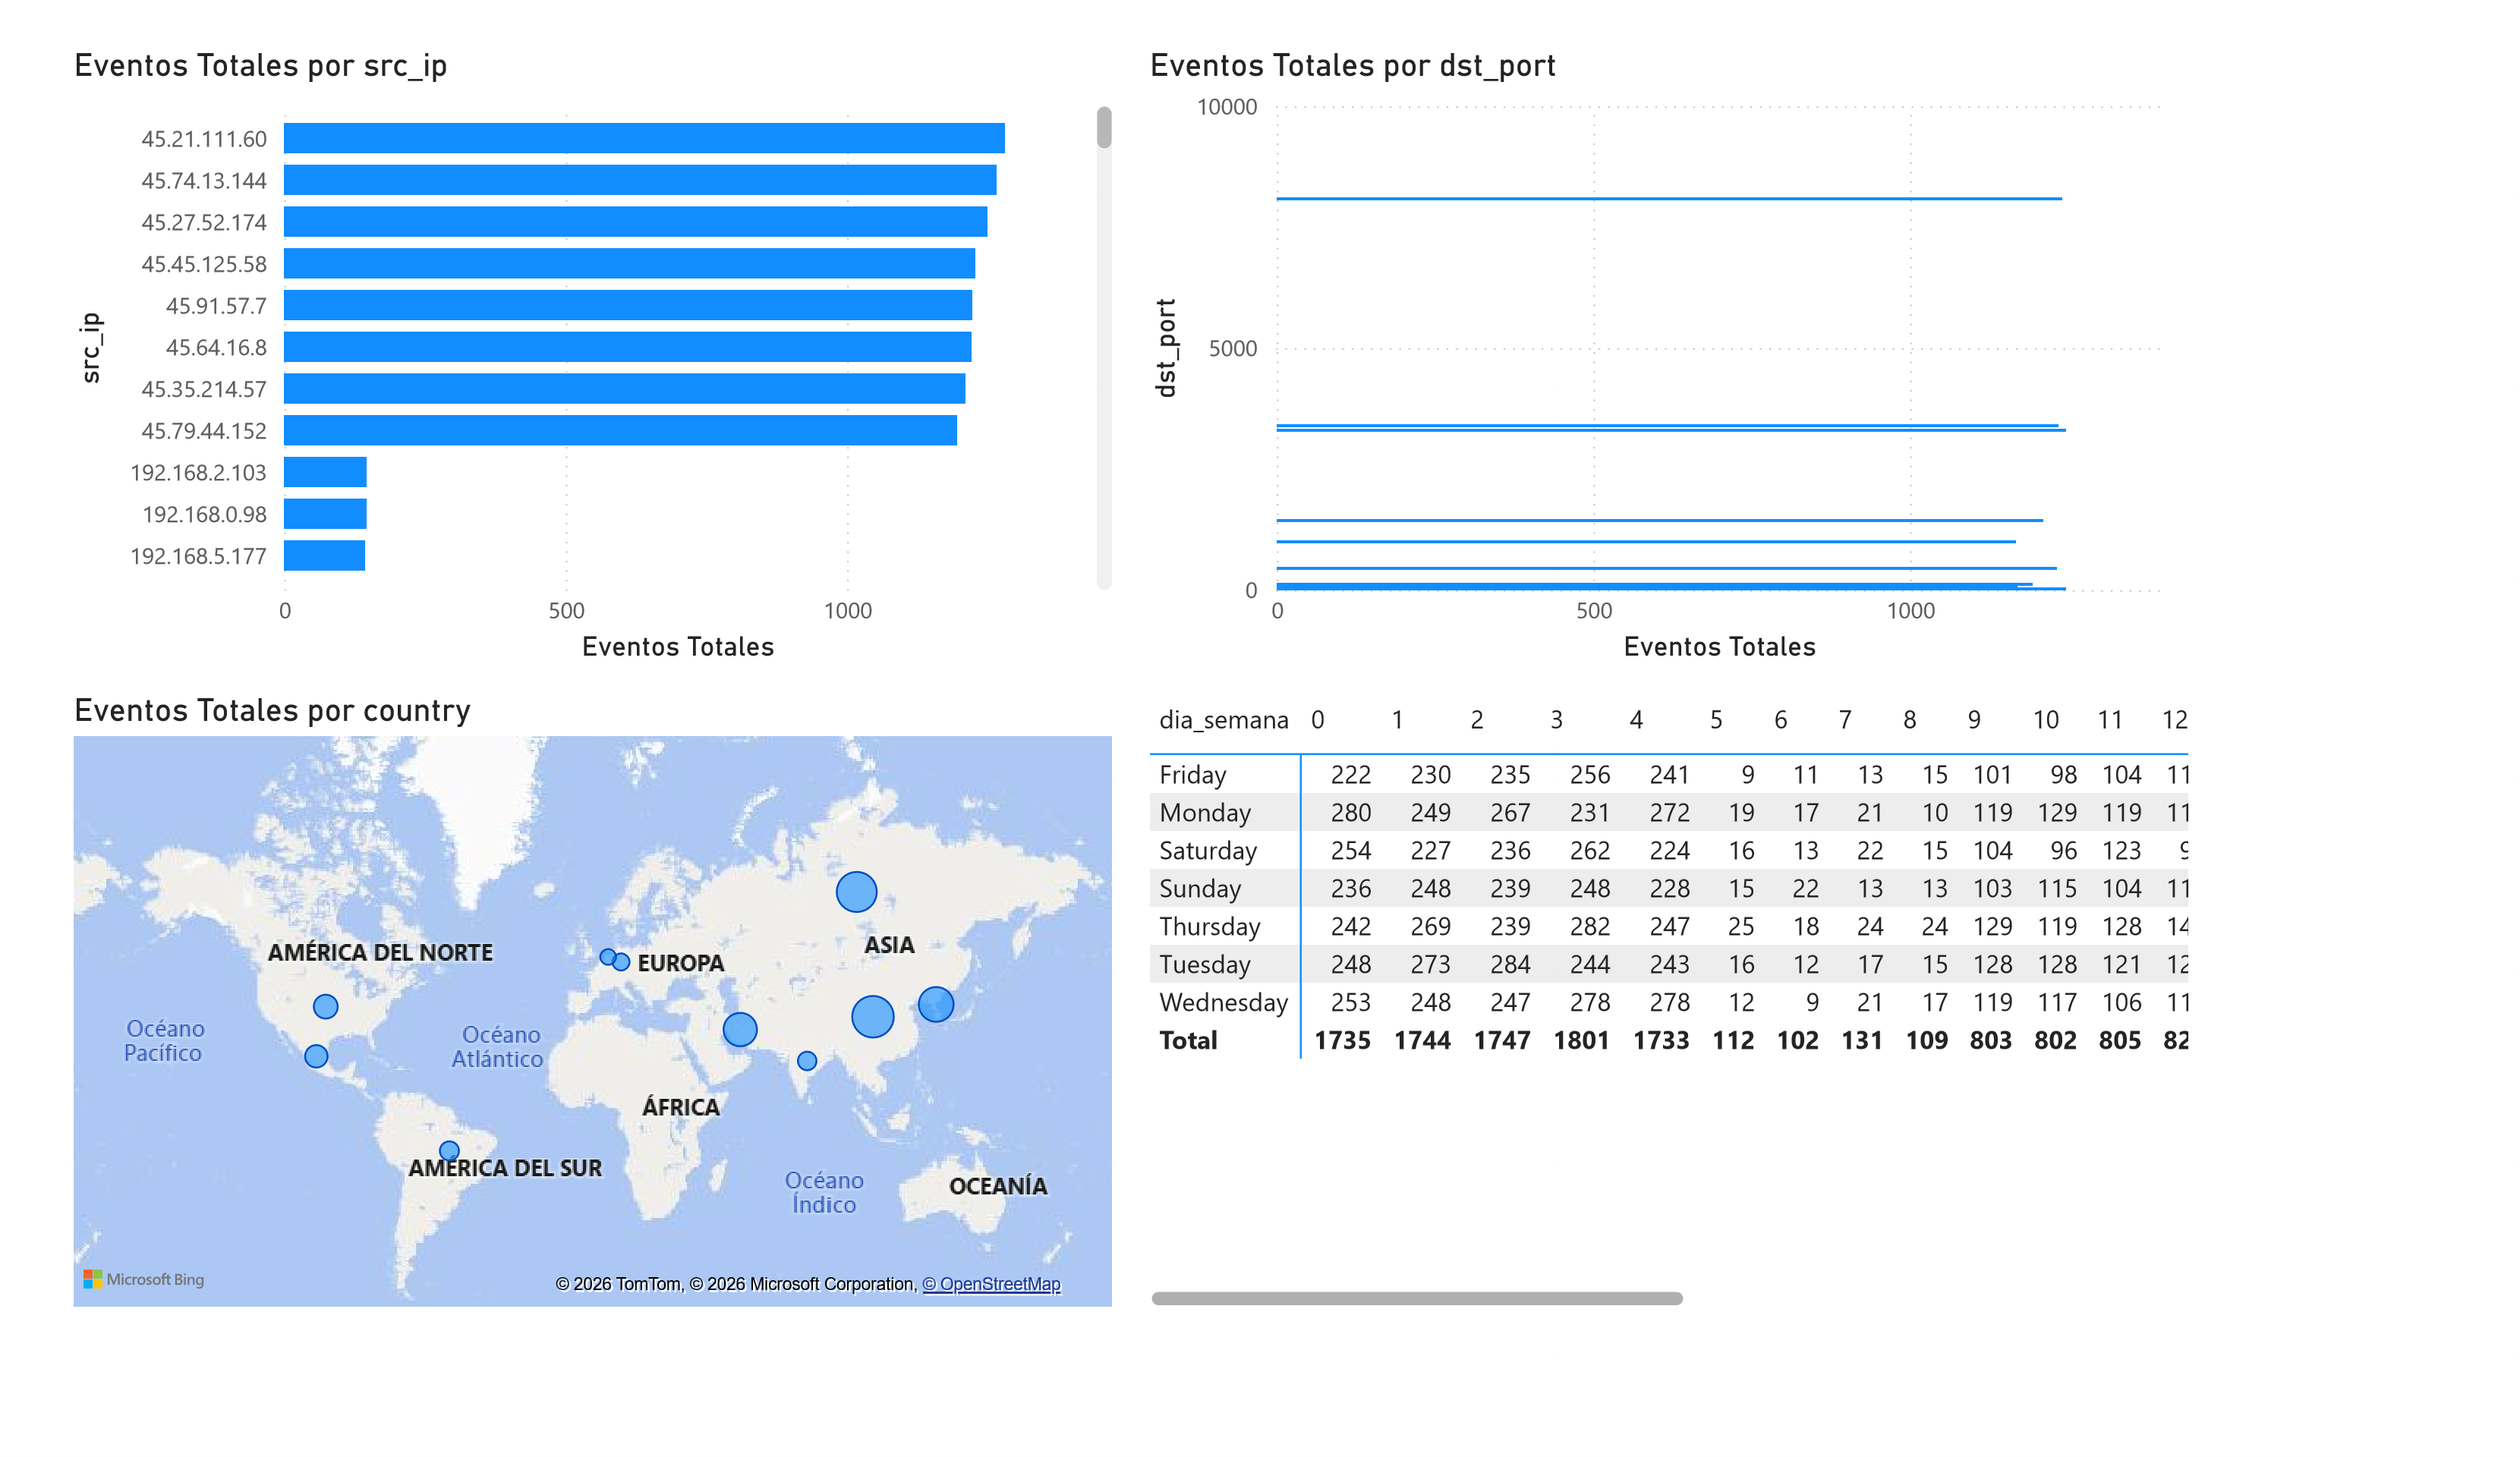

Layout of this report page (visuals, bound fields, positions):
{"tool":"powerbi","page":{"name":"Técnica","canvas":[1280,720],"ordinal":1},"visuals":[{"type":"barChart","fields":{"Category":["powerbi_dataset.src_ip"],"Y":["powerbi_dataset.Eventos Totales"]},"box":[10,0,556.7,330],"z":0},{"type":"barChart","fields":{"Y":["powerbi_dataset.Eventos Totales"],"Category":["powerbi_dataset.dst_port"]},"box":[577,0,557,330],"z":1000},{"type":"pivotTable","fields":{"Rows":["powerbi_dataset.dia_semana"],"Values":["powerbi_dataset.Eventos Totales"],"Columns":["powerbi_dataset.hora"]},"box":[577,340,557,330],"z":2000},{"type":"map","fields":{"Category":["powerbi_dataset.country"],"Size":["powerbi_dataset.Eventos Totales"]},"box":[10,340,557,330],"z":3000}]}

Visuals, with their boxes in screenshot pixels (x1, y1, x2, y2), scaled from the page's 1280x720 canvas onto the 2520x1457 screenshot:
barChart - powerbi_dataset.src_ip x powerbi_dataset.Eventos Totales: left=20, top=0, right=1116, bottom=668
barChart - powerbi_dataset.Eventos Totales x powerbi_dataset.dst_port: left=1136, top=0, right=2232, bottom=668
pivotTable - powerbi_dataset.dia_semana x powerbi_dataset.Eventos Totales: left=1136, top=688, right=2232, bottom=1356
map - powerbi_dataset.country x powerbi_dataset.Eventos Totales: left=20, top=688, right=1117, bottom=1356
